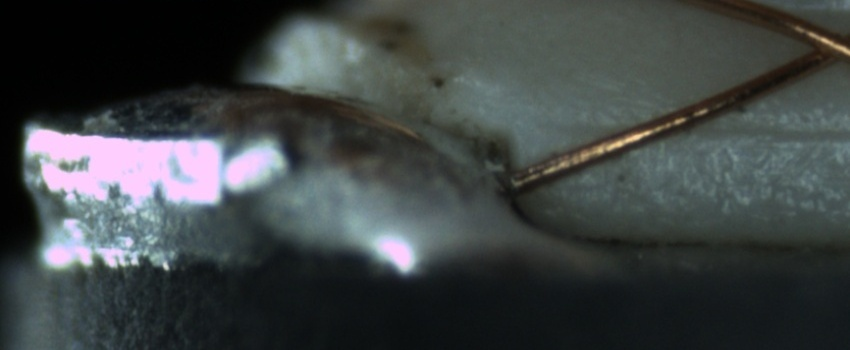CL: (779, 13, 847, 77)
DL: (549, 97, 850, 160)
